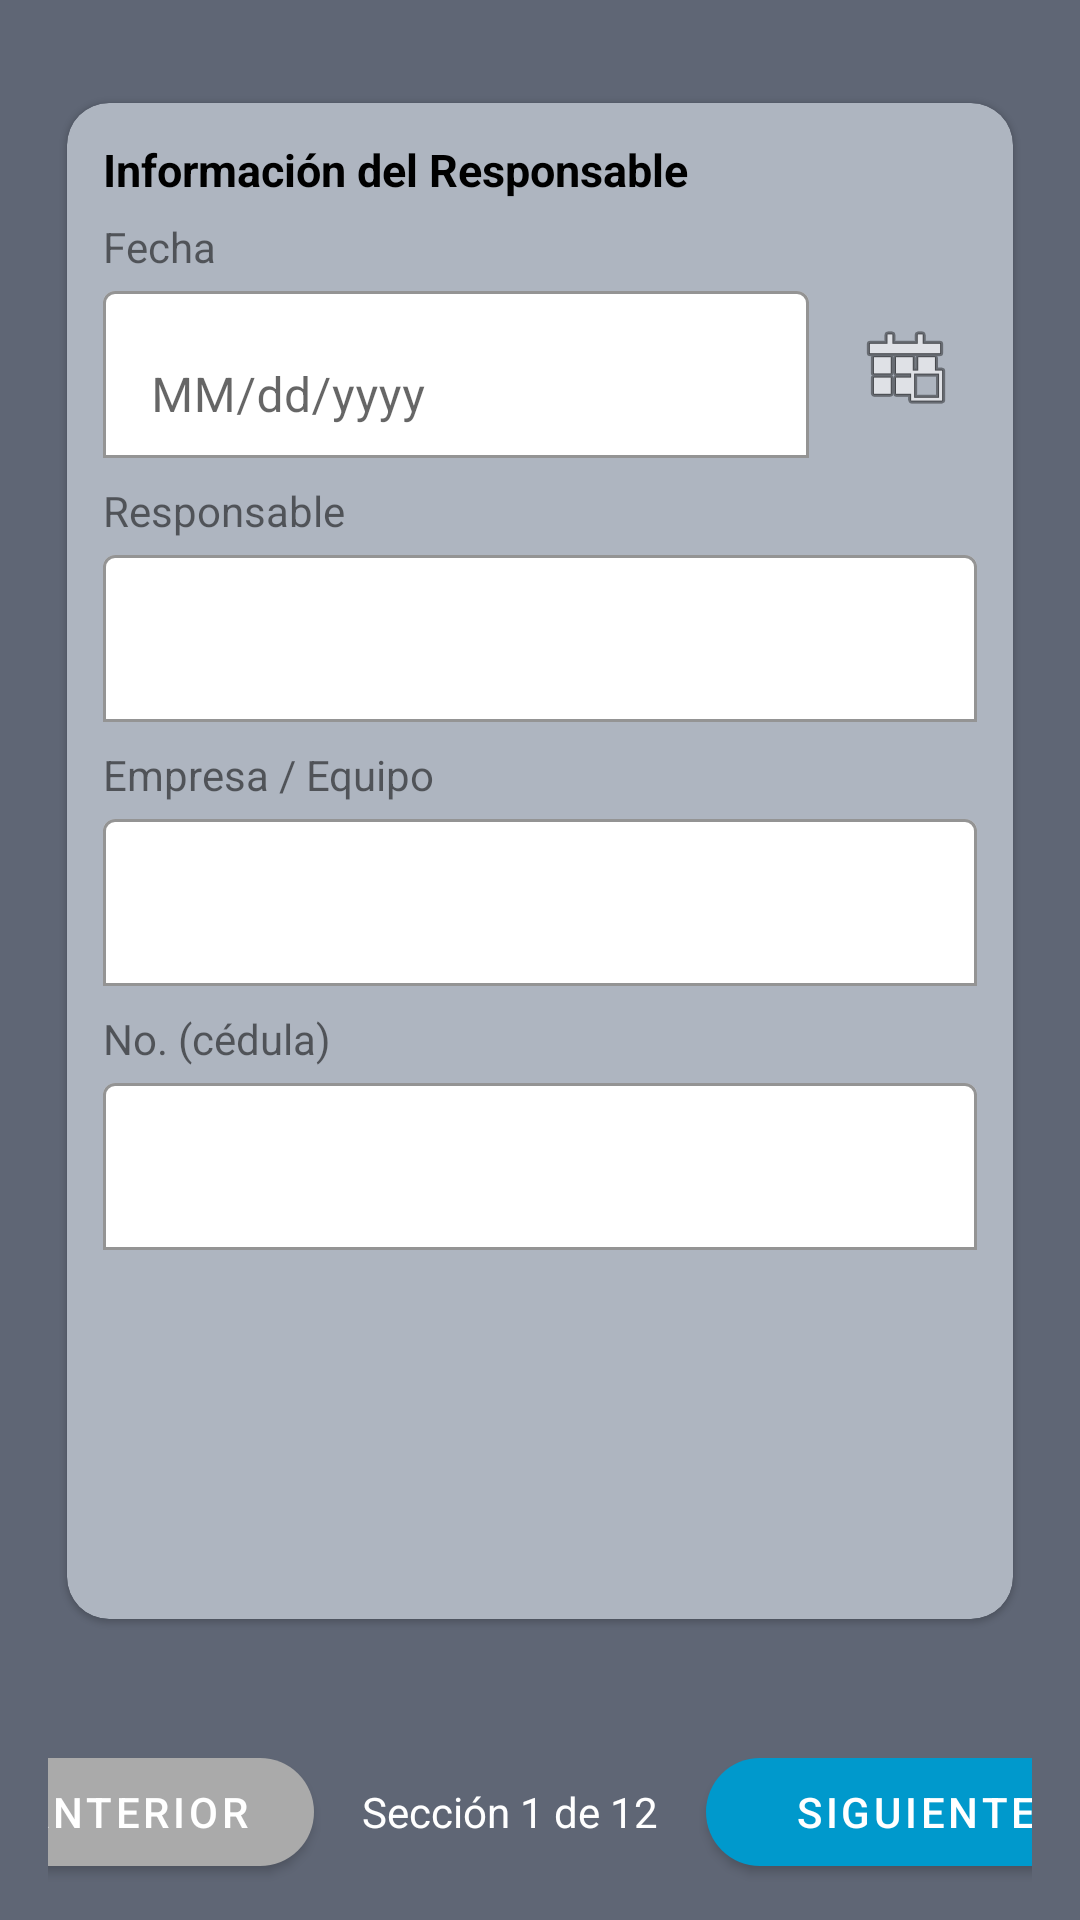

Where to tap for icons on this 1080px×1920px app screen, as (x,y):
Seleccionar fecha: (906,367)
